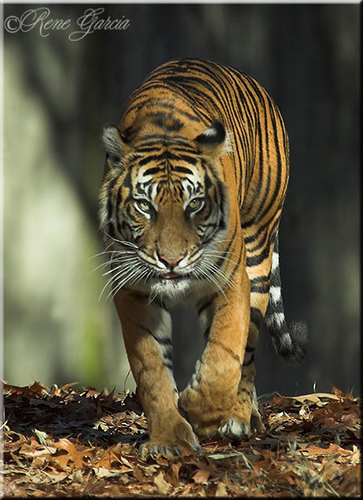Tigre: (72, 46, 331, 457)
